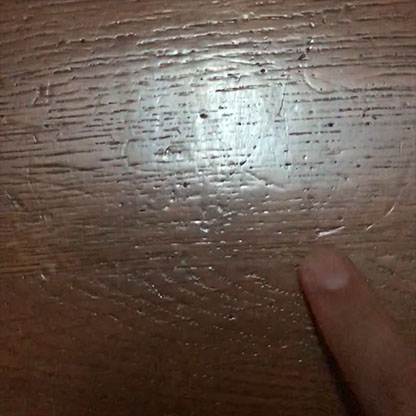fingertip: (286, 235, 365, 303)
